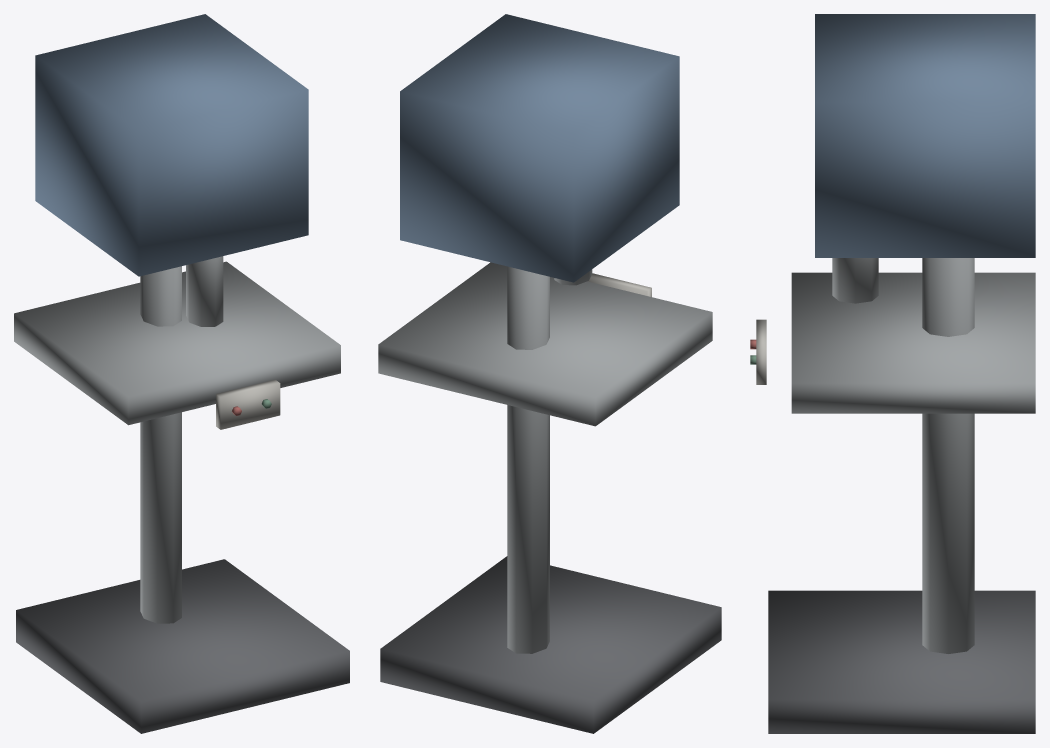
File: drill_press__deep.glb
The picture shows the model from 3 angles, left to right: view 1: azimuth 30°, elevation 25°; view 2: azimuth 150°, elevation 25°; view 3: azimuth 270°, elevation 25°; orthographic projection. The views are drawn at different scales.
Visible parts, largest first — view 1: world; view 2: world; view 3: world.
Boxes of the visible parts, <box> form: world: <box>14,14,349,733</box>; world: <box>378,14,721,733</box>; world: <box>750,14,1035,733</box>.
Bounding box in the file's own units: 0.55 × 1.44 × 0.599.
